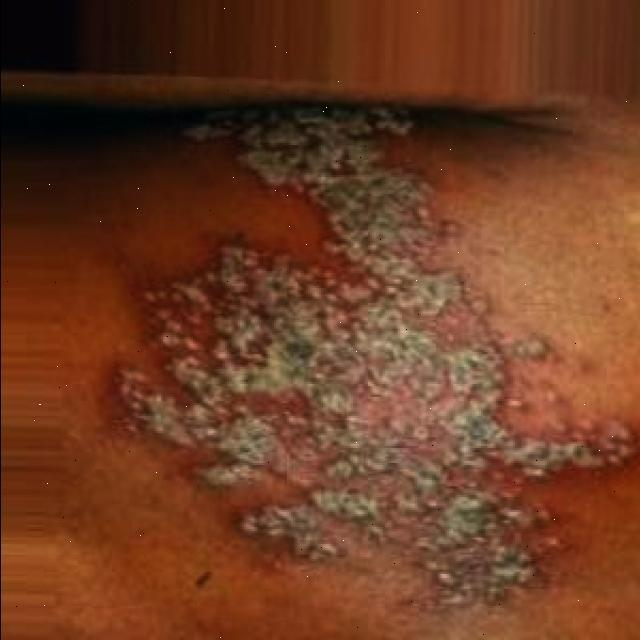Shingles: (104, 89, 636, 606)
